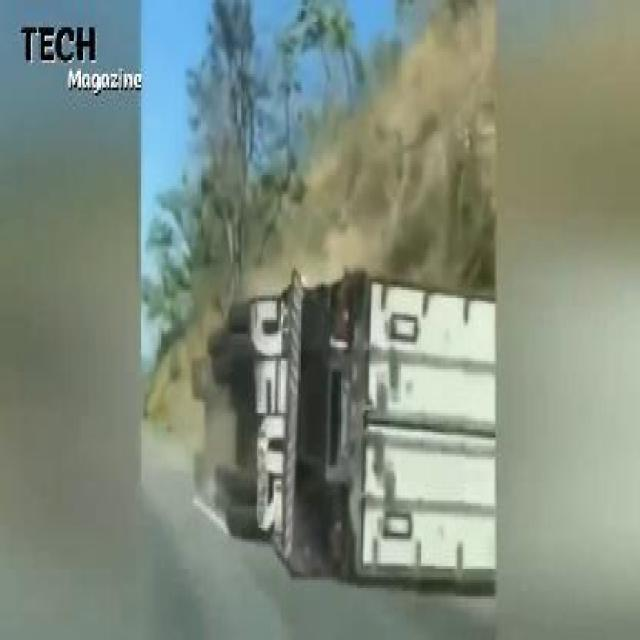accident: (191, 268, 495, 591)
